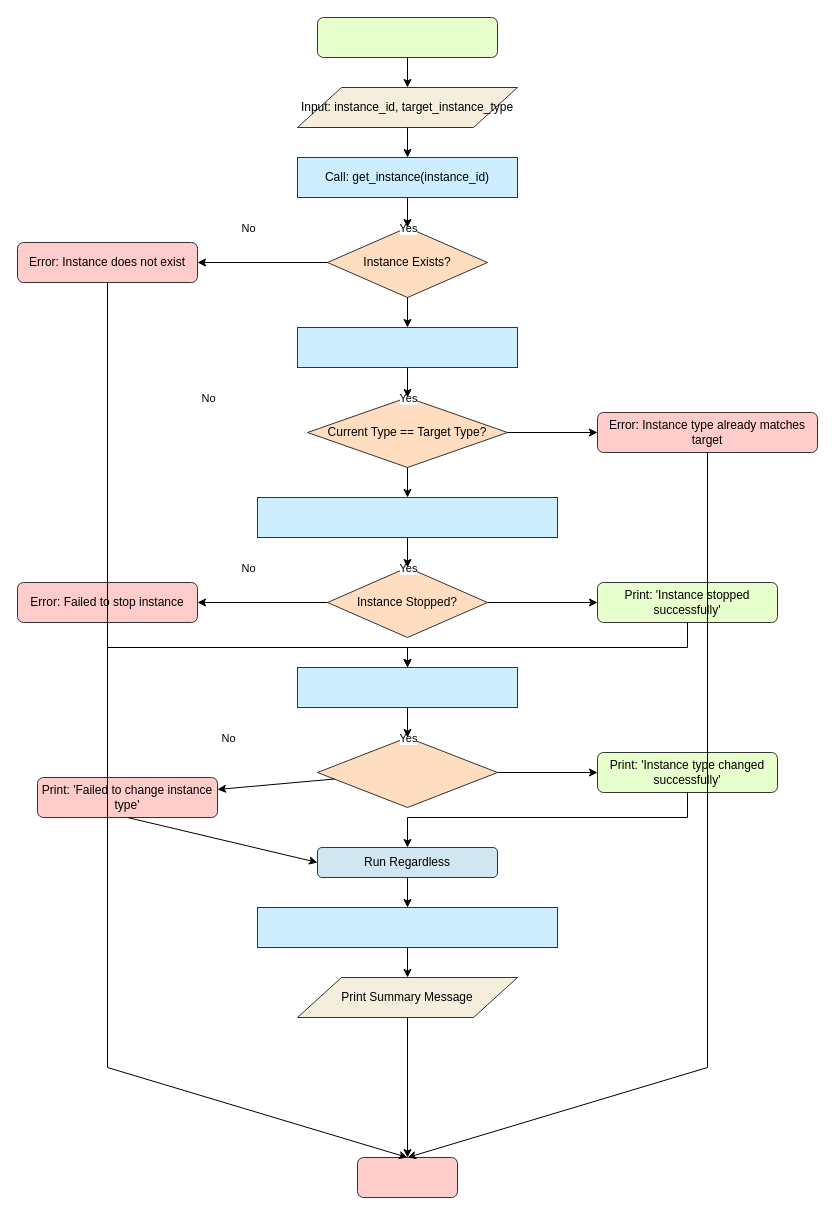
This 835x1215 diagram has some shape labels left out. The shapes that lost their labels are listed below. From the top down, each one's centre as x and y in pixels, then its label:
At [407,37]: "Start: change_instance_type".
At [407,347]: "Compare Current & Target Instance Type".
At [407,517]: "Call: get_instance_into_stopped_state(instance_id)".
At [407,687]: "Attempt to change instance type".
At [407,772]: "Type Change Successful?".
At [407,927]: "Call: get_instance_into_running_state(instance_id)".
At [407,1177]: "End".
